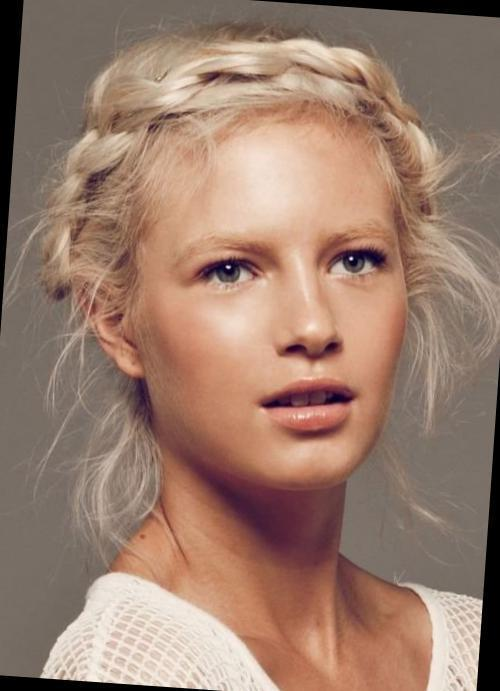Sober: (152, 139, 391, 474)
